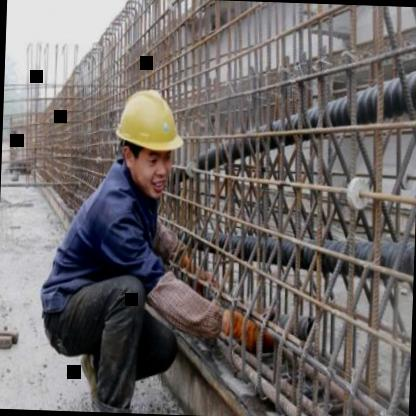helmet: (108, 79, 188, 205)
